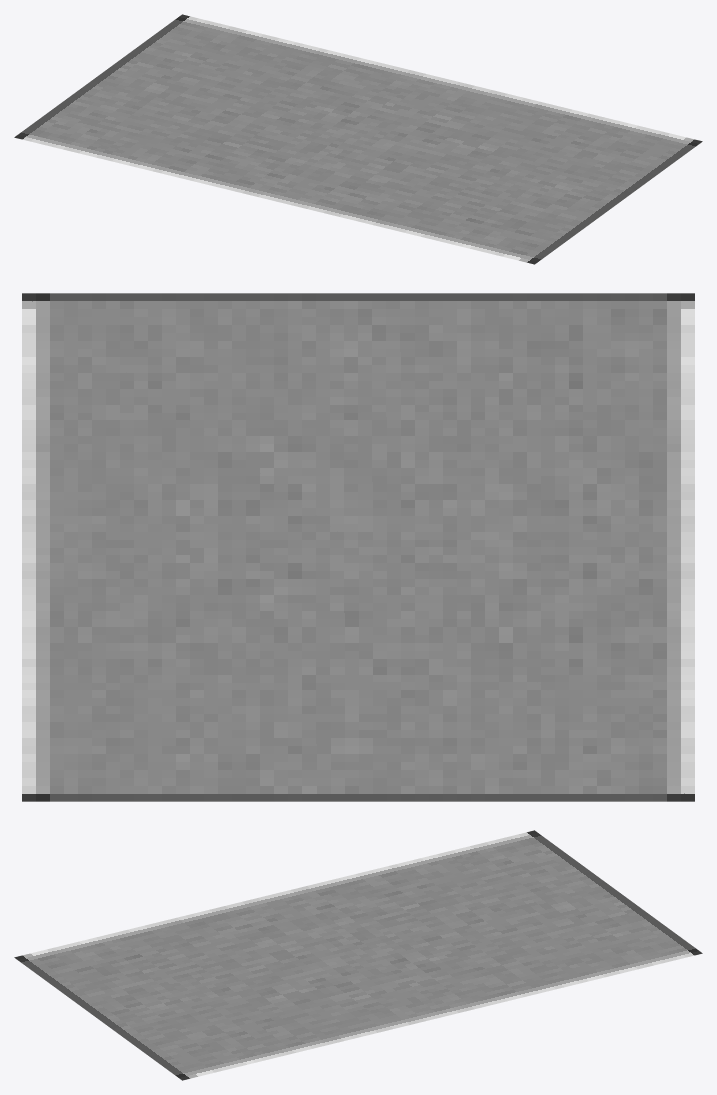
Rendered from primary_034.glb.
3 renders of one model, top to bottom at view 1: azimuth 30°, elevation 25°; view 2: azimuth 150°, elevation 25°; view 3: azimuth 270°, elevation 25°, orthographic. The views are drawn at different scales.
Visible parts, largest first — view 1: Object; view 2: Object; view 3: Object.
Boxes of the visible parts, x1,y1,x2,y2 form: Object: (14,14,702,264); Object: (22,293,694,801); Object: (14,830,702,1080).
Bounding box in the file's own units: 1.62 × 3.14e-05 × 1.89.
Materials: 1 (1 with a texture image).
